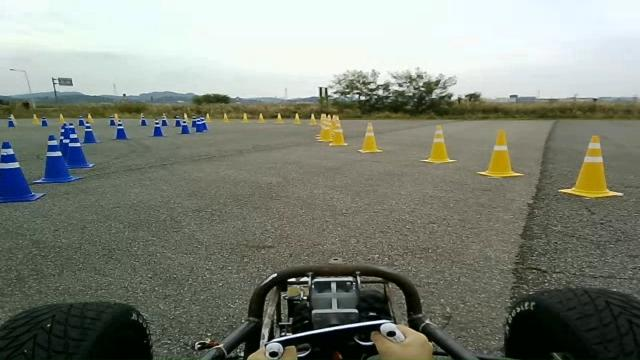blue cone: (0, 140, 45, 202), (32, 134, 82, 184), (63, 137, 94, 168), (1, 140, 20, 164), (82, 123, 101, 143), (111, 121, 130, 140), (150, 114, 166, 136), (61, 123, 78, 139), (179, 118, 190, 134), (194, 120, 208, 132)
yellow cone: (558, 134, 624, 198), (476, 129, 524, 178), (419, 124, 457, 164), (357, 121, 383, 152), (329, 119, 349, 146), (317, 116, 332, 142), (7, 114, 17, 127)
